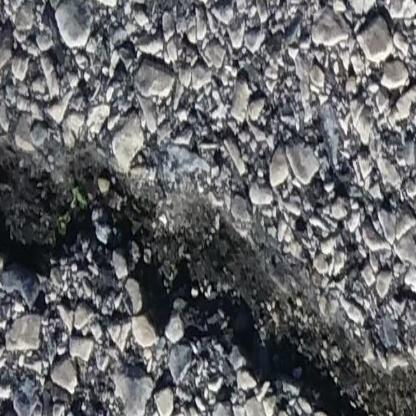Cracks: (0, 119, 416, 416)
